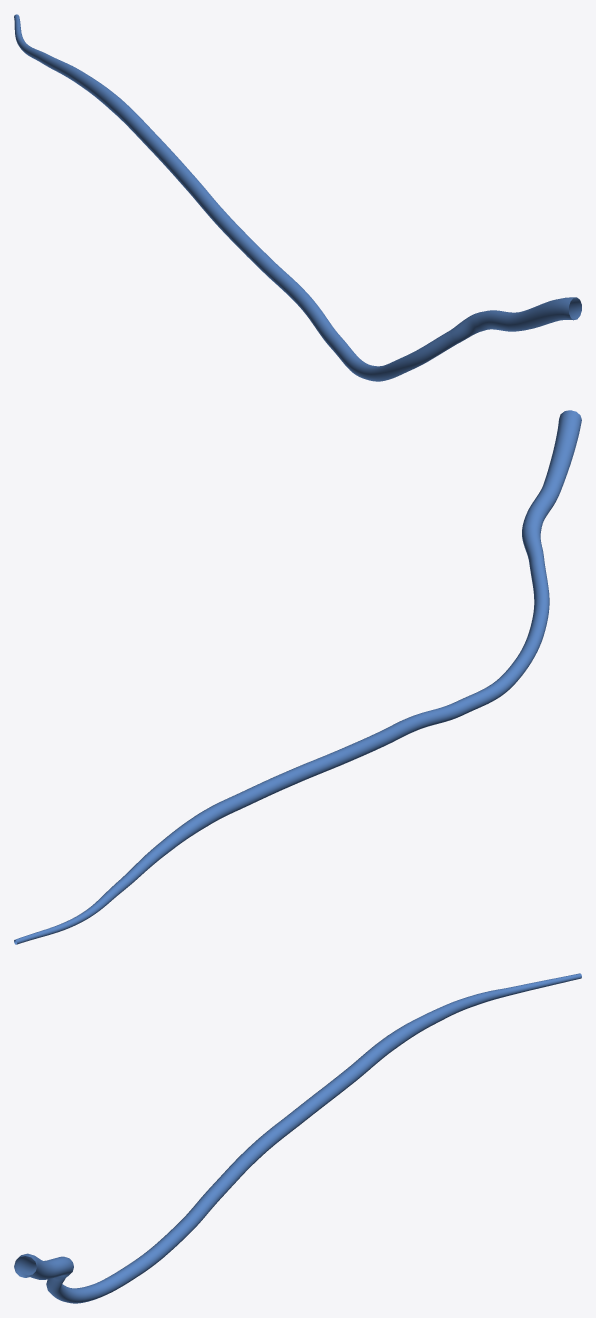
3 renders of one model, top to bottom at view 1: azimuth 30°, elevation 25°; view 2: azimuth 150°, elevation 25°; view 3: azimuth 330°, elevation 25°, orthographic.
Visible parts, largest first — view 1: 右侧胫前静脉; view 2: 右侧胫前静脉; view 3: 右侧胫前静脉.
Part boxes in pixels (bbox=[...]): 右侧胫前静脉: bbox=[14, 14, 581, 381]; 右侧胫前静脉: bbox=[14, 410, 581, 944]; 右侧胫前静脉: bbox=[14, 973, 581, 1303].
Bounding box in the file's own units: 0.0395 × 0.0696 × 0.4292.
